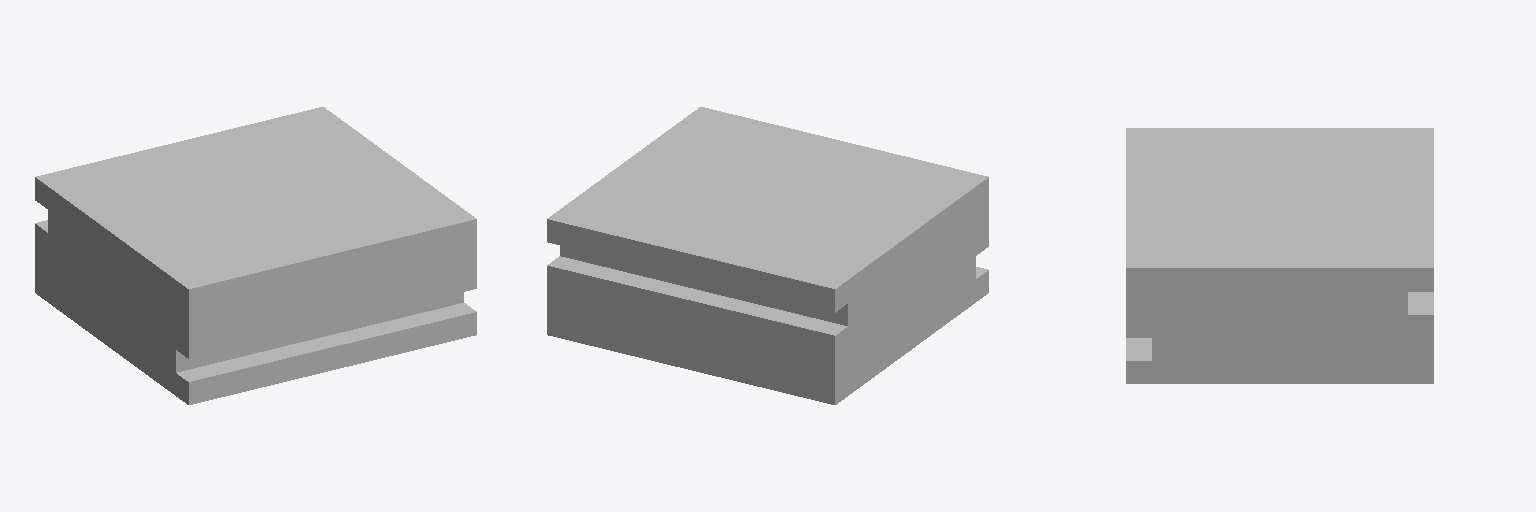
The model's file is Towels.obj.
The picture shows the model from 3 angles: view 1: azimuth 30°, elevation 25°; view 2: azimuth 150°, elevation 25°; view 3: azimuth 270°, elevation 25°; orthographic projection.
Visible parts, largest first — view 1: object 1; view 2: object 1; view 3: object 1.
Part boxes in pixels (left/top/right/bottom): object 1: left=35, top=107, right=476, bottom=404; object 1: left=547, top=107, right=988, bottom=404; object 1: left=1126, top=128, right=1433, bottom=383.
Size of the model in its own units: 1.3 by 0.5 by 1.2.